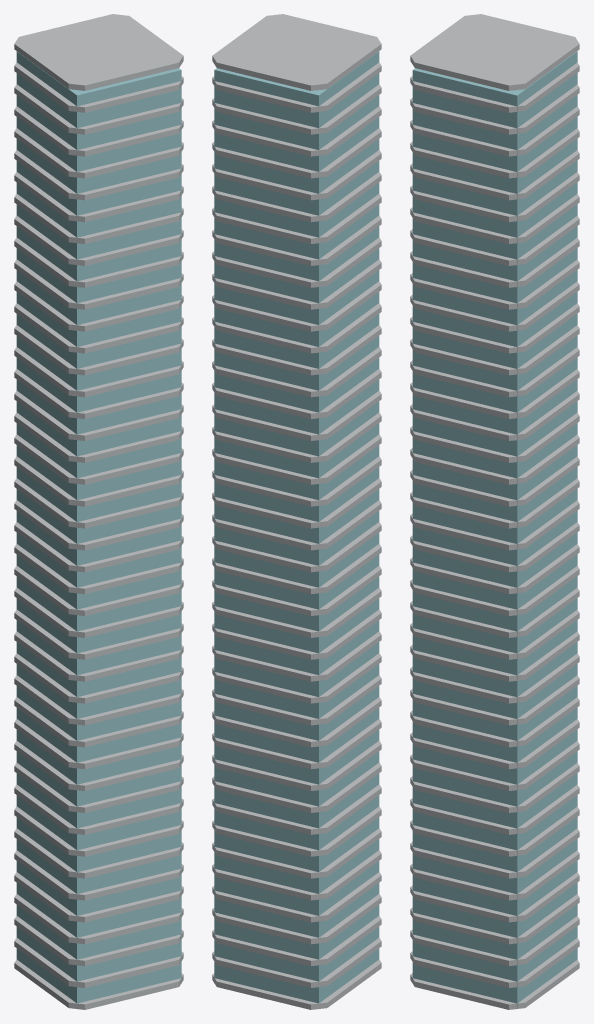
File: city2.glb
3 renders of one model, left to right at view 1: azimuth 30°, elevation 25°; view 2: azimuth 150°, elevation 25°; view 3: azimuth 330°, elevation 25°, orthographic.
Visible parts, largest first — view 1: Mesh_Mesh_head_geo.001_lambert2SG.001; view 2: Mesh_Mesh_head_geo.001_lambert2SG.001; view 3: Mesh_Mesh_head_geo.001_lambert2SG.001.
Part boxes in pixels (left/top/right/bottom): Mesh_Mesh_head_geo.001_lambert2SG.001: left=14, top=14, right=183, bottom=1009; Mesh_Mesh_head_geo.001_lambert2SG.001: left=212, top=14, right=381, bottom=1009; Mesh_Mesh_head_geo.001_lambert2SG.001: left=410, top=14, right=579, bottom=1009.
Bounding box in the file's own units: 21.99 × 169 × 21.99.
